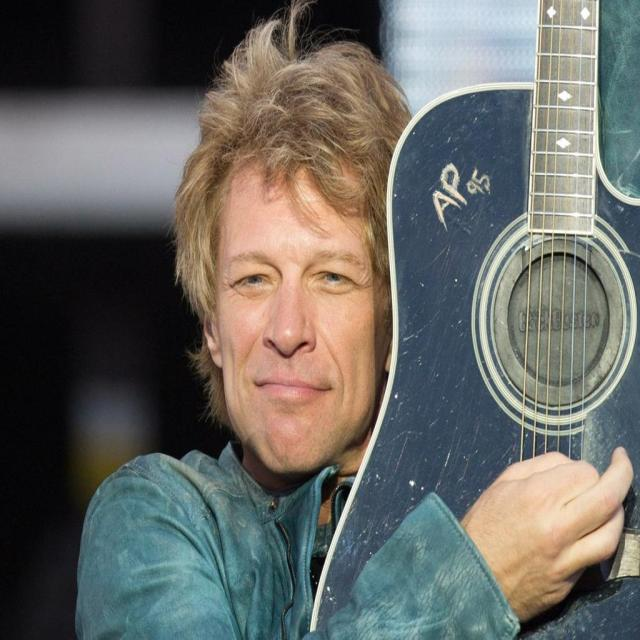Face: (189, 127, 394, 464)
